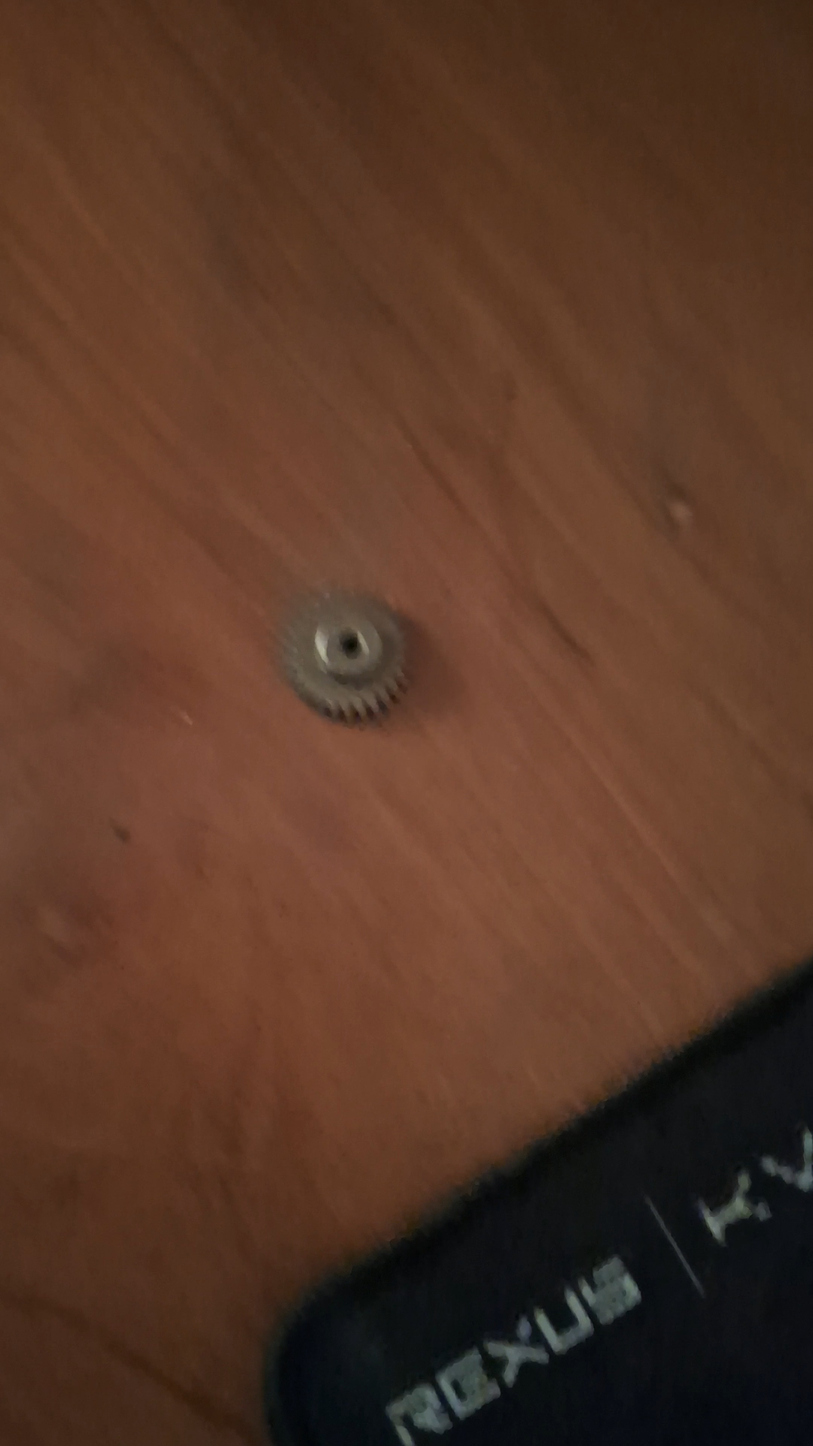spur gear: (282, 591, 404, 722)
